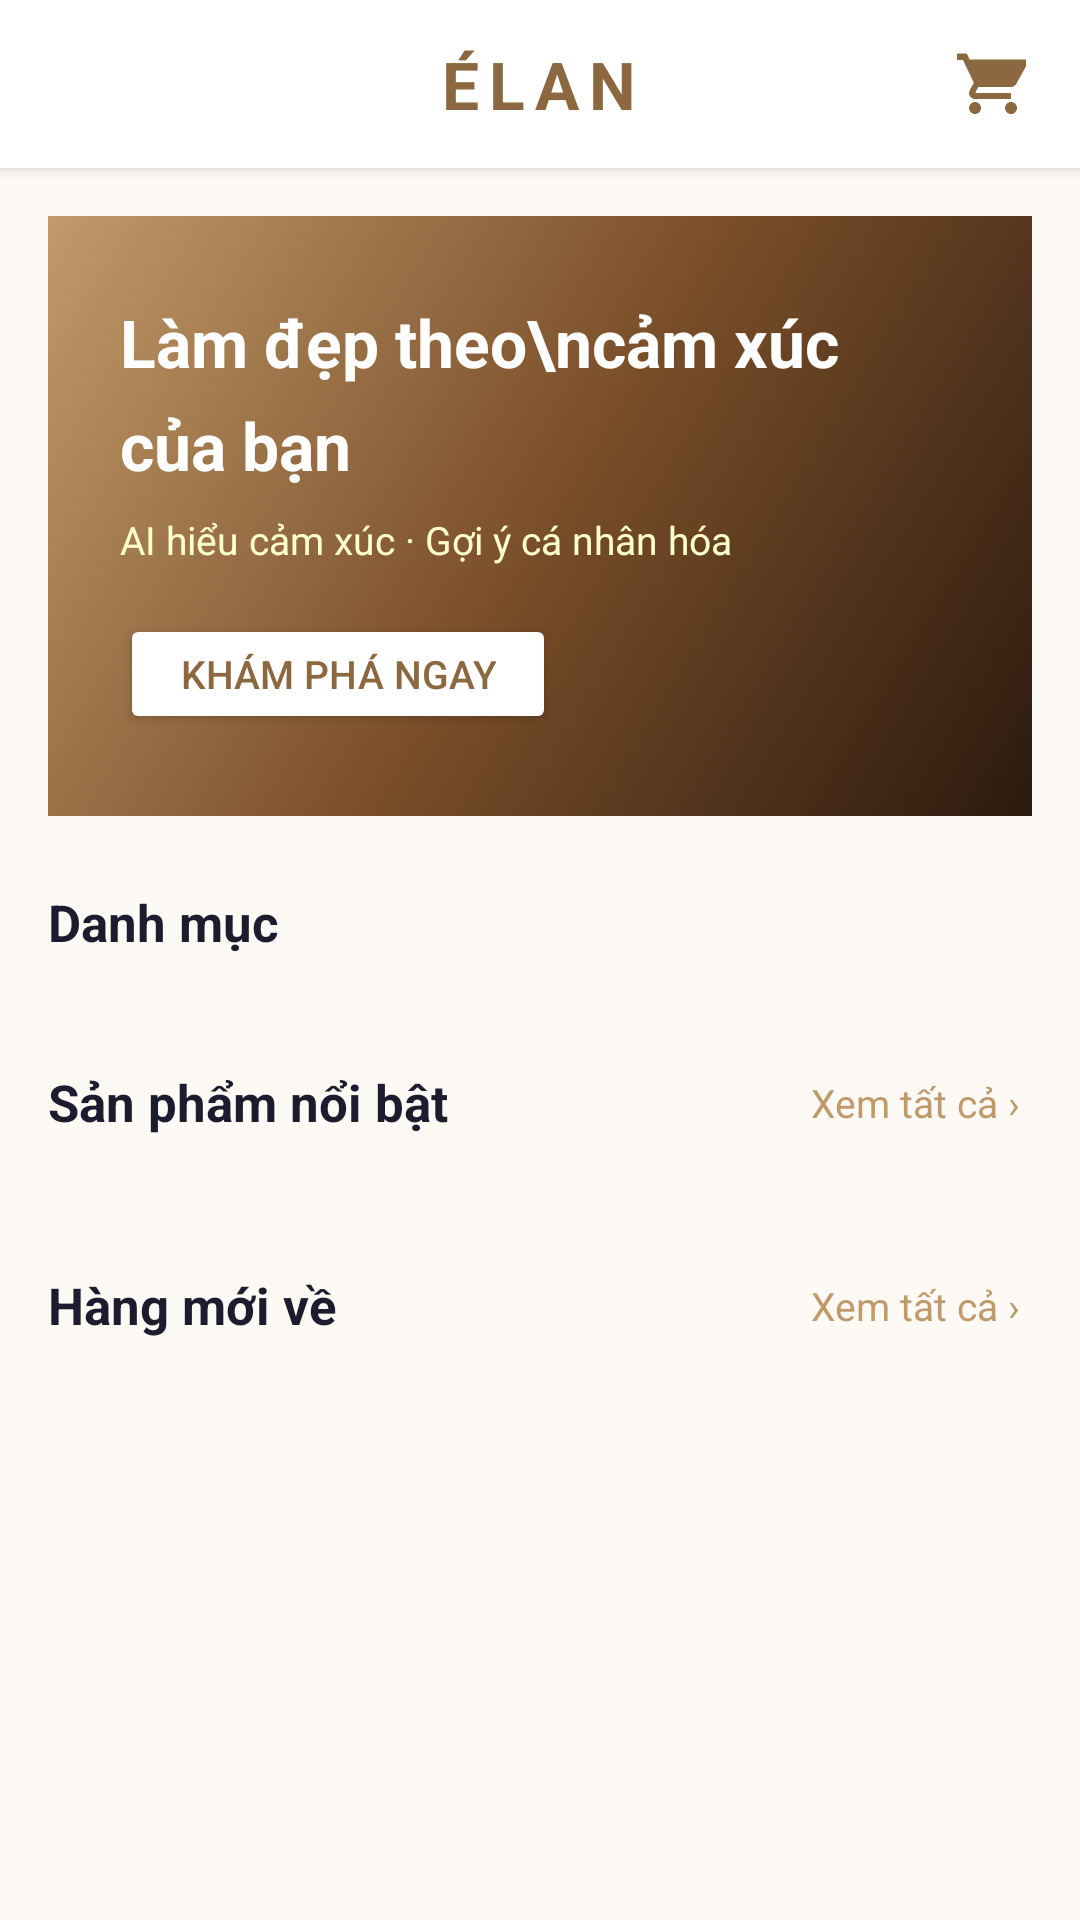

Screen size 1080x1920. Icon name, then its box in pixels as (x1, y1, x2, y2):
cart: (957, 53, 1026, 114)
